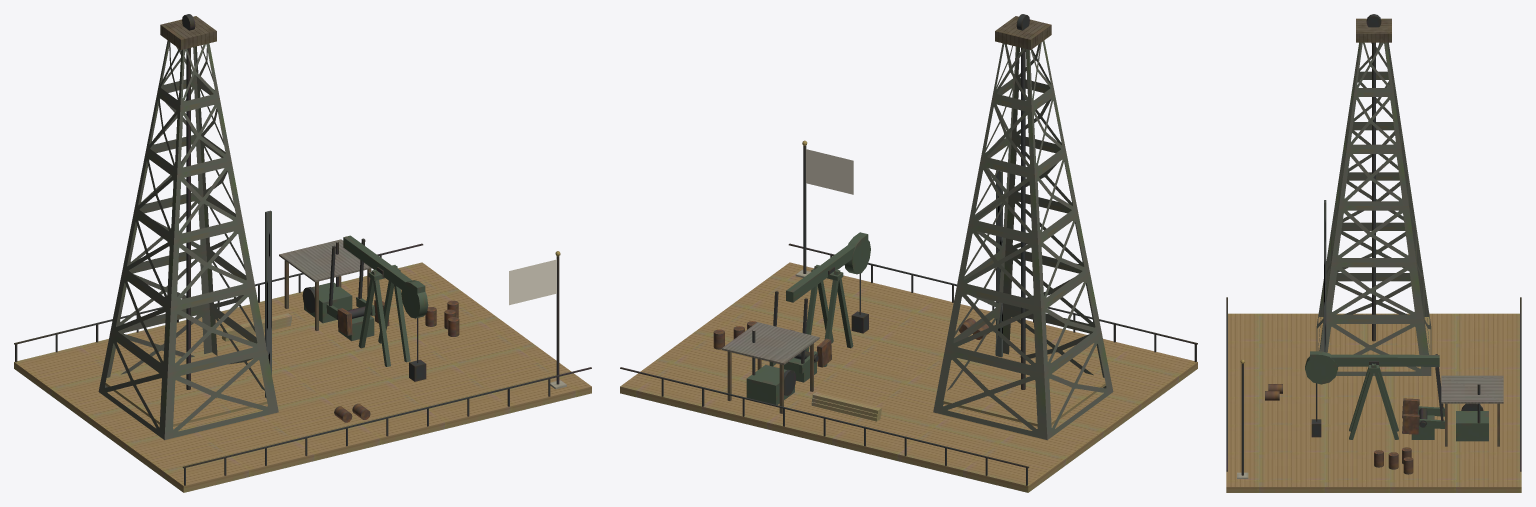
File: oilWell.glb
3 renders of one model, left to right at view 1: azimuth 30°, elevation 25°; view 2: azimuth 150°, elevation 25°; view 3: azimuth 270°, elevation 25°, orthographic. The views are drawn at different scales.
Parts seen in each view (by area): view 1: puits, drapeau, balancier, tete_de_cheval; view 2: puits, drapeau, balancier, tete_de_cheval; view 3: puits, balancier, tete_de_cheval, manivelle, hampe, contrepoids_2.
Part boxes in pixels (bbox=[...]): puits: bbox=[14, 14, 591, 492]; drapeau: bbox=[509, 259, 556, 305]; balancier: bbox=[343, 235, 411, 289]; tete_de_cheval: bbox=[401, 280, 428, 318]; puits: bbox=[620, 14, 1197, 492]; drapeau: bbox=[806, 149, 853, 194]; balancier: bbox=[786, 244, 855, 302]; tete_de_cheval: bbox=[844, 232, 870, 274]; puits: bbox=[1226, 14, 1521, 492]; balancier: bbox=[1330, 354, 1439, 366]; tete_de_cheval: bbox=[1305, 351, 1337, 384]; manivelle: bbox=[1418, 406, 1444, 428]; hampe: bbox=[1237, 359, 1248, 478]; contrepoids_2: bbox=[1402, 414, 1419, 434].
Size of the model in its own units: 25 by 23.05 by 18.
Materials: 13 (12 with a texture image).
